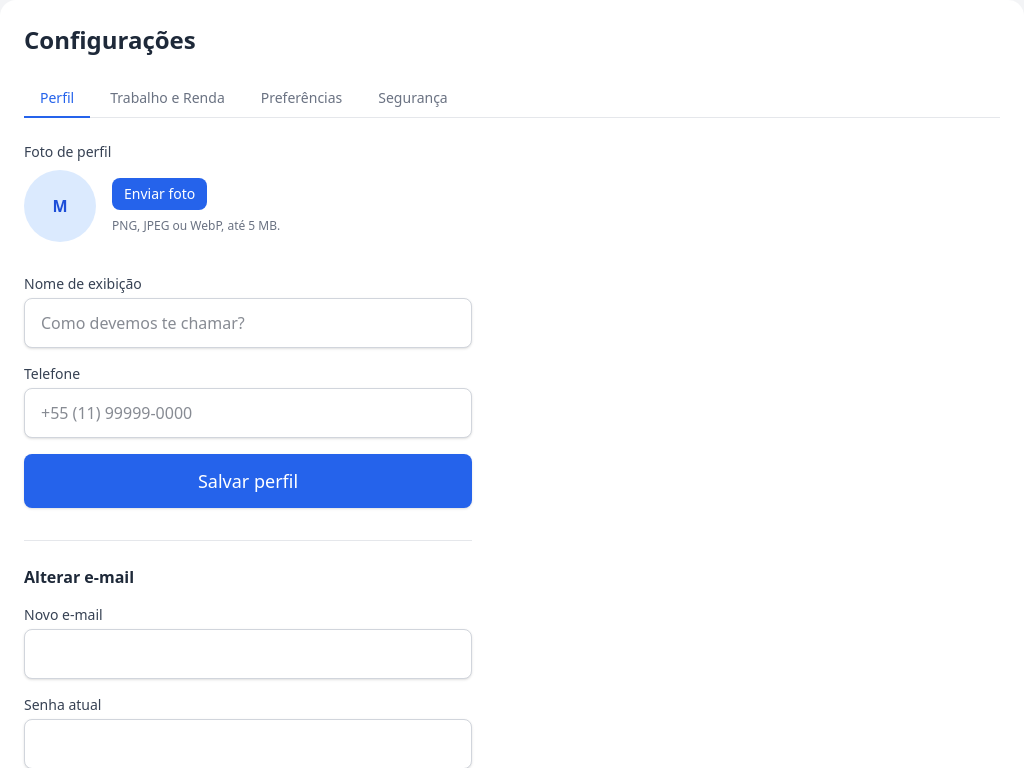
Test: SettingsPage › renders the Security tab password form
Click the button "Segurança" at (413, 99), box [362, 80, 464, 118]
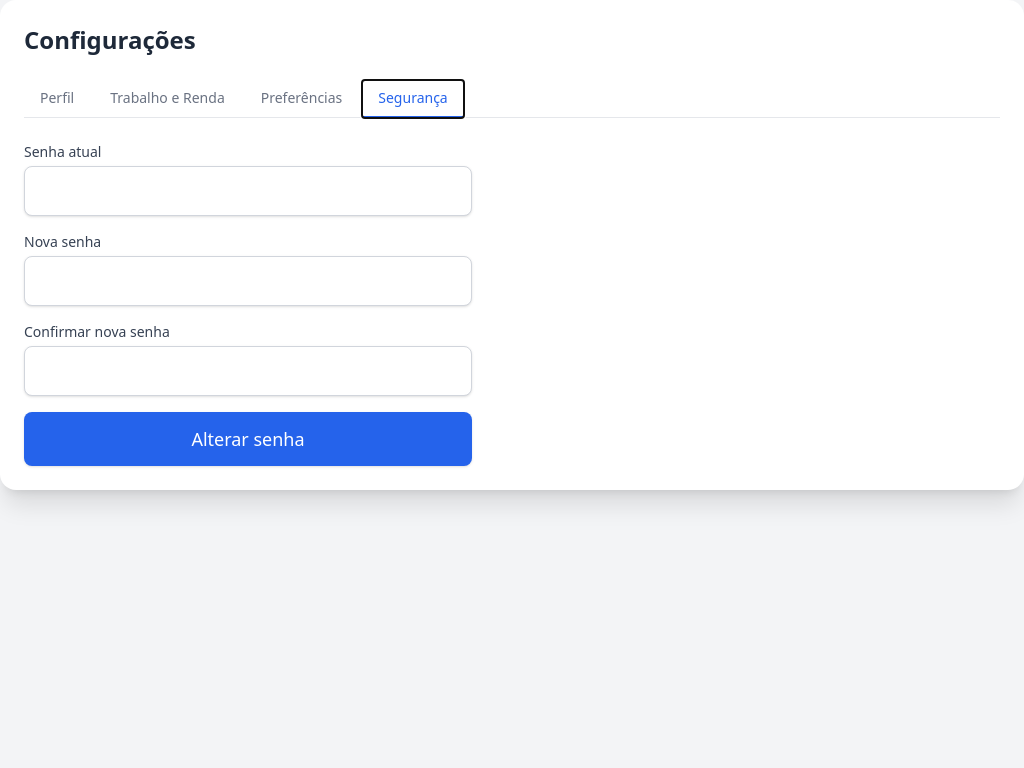
Result: the password field labelled "Nova senha" is shown at [24, 256, 472, 306]
Result: the password field labelled "Confirmar nova senha" is shown at [24, 346, 472, 396]
